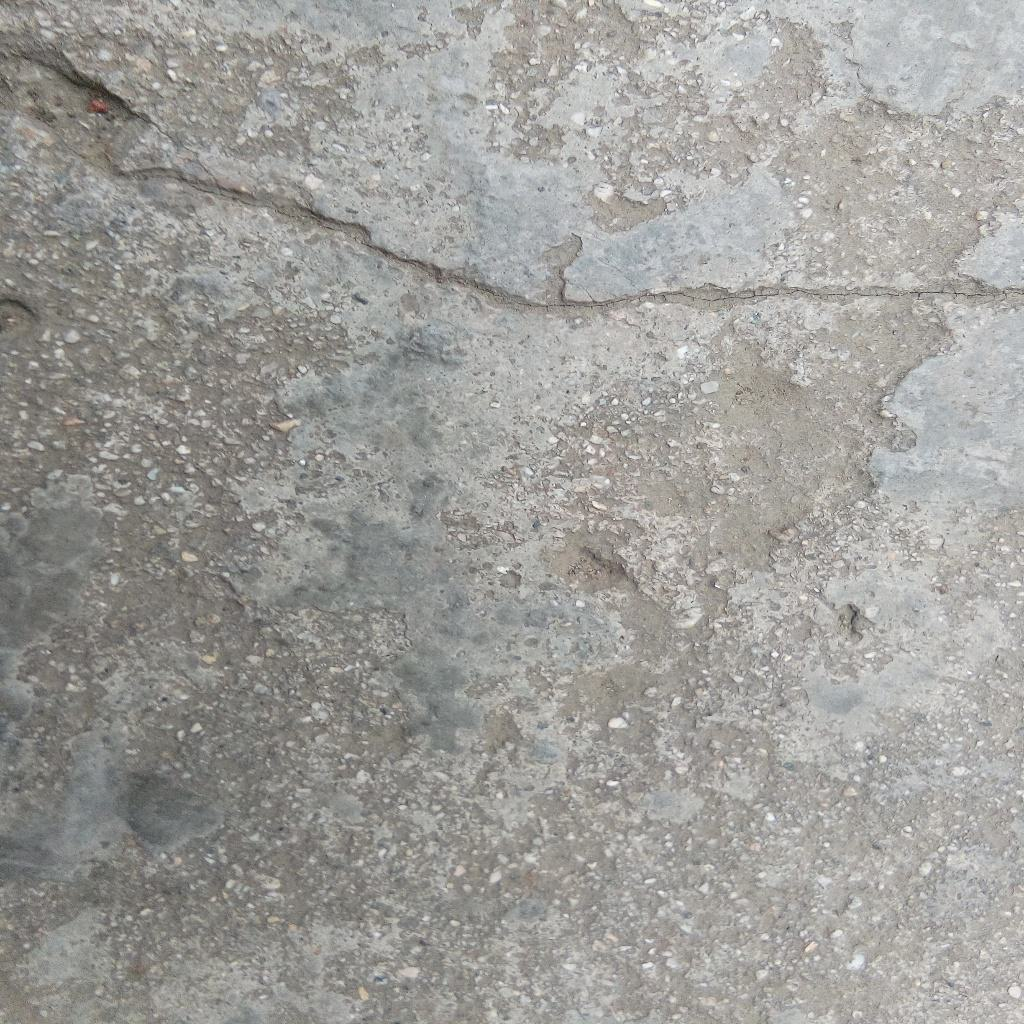Crack: (119, 173, 1024, 313)
Spalling: (1, 48, 135, 173)
